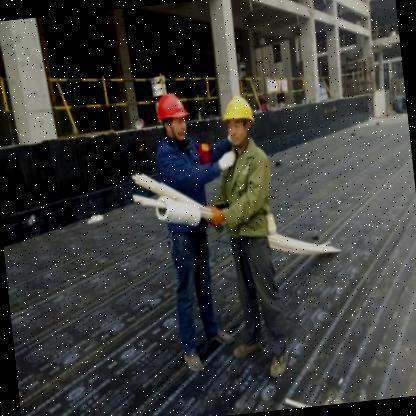capacete: (219, 92, 258, 151), (154, 90, 195, 144)
sem_colete_refletivo: (150, 130, 214, 246), (211, 137, 280, 242)
